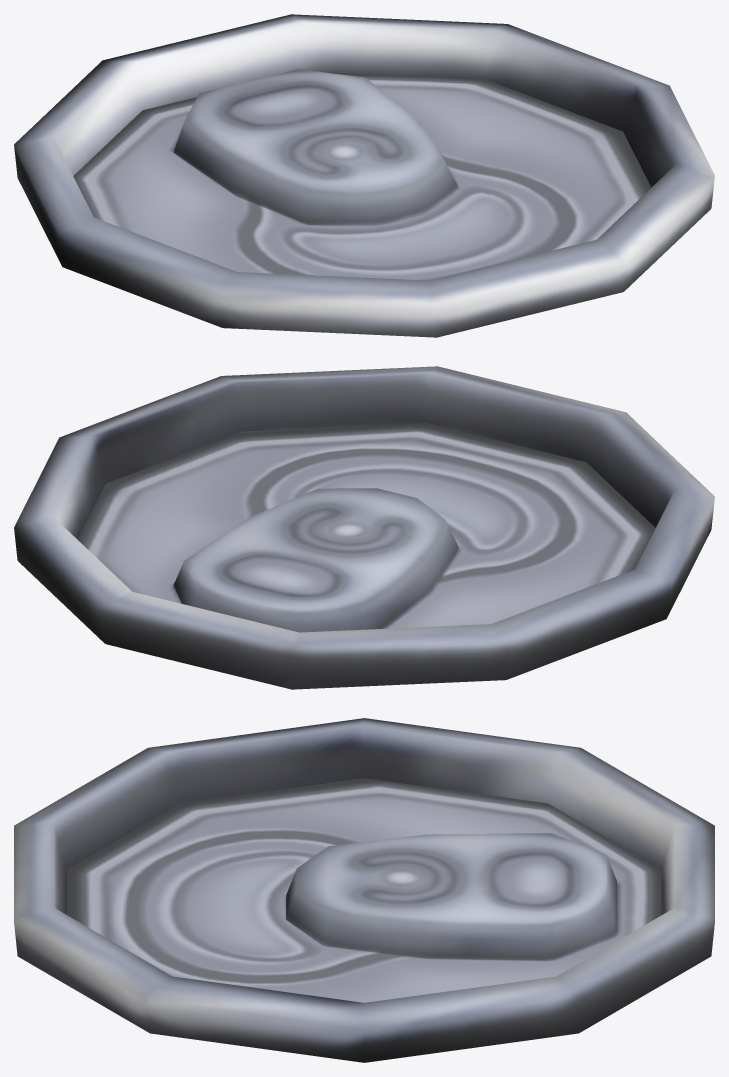
Rendered from Can_Top_Closed.fbx.
3 renders of one model, top to bottom at view 1: azimuth 30°, elevation 25°; view 2: azimuth 150°, elevation 25°; view 3: azimuth 270°, elevation 25°, orthographic. The views are drawn at different scales.
Visible parts, largest first — view 1: Can_Top_Open; view 2: Can_Top_Open; view 3: Can_Top_Open.
Part boxes in pixels (x1,y1,x2,y2): Can_Top_Open: (14,14,714,337); Can_Top_Open: (14,366,714,689); Can_Top_Open: (14,718,714,1062).
Bounding box in the file's own units: 30.51 × 2.07 × 29.02.
